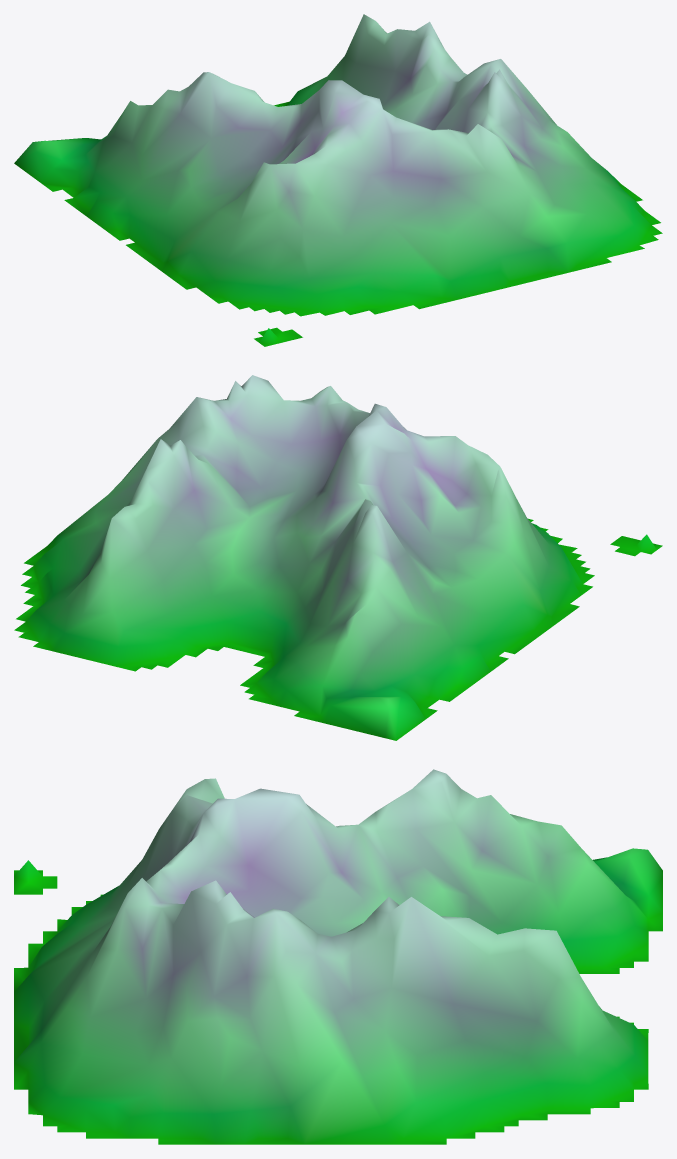
File: mountain_d.glb
3 views of the same model, one above another, from view 1: azimuth 30°, elevation 25°; view 2: azimuth 150°, elevation 25°; view 3: azimuth 270°, elevation 25° (orthographic). The views are drawn at different scales.
Visible parts, largest first — view 1: mountain_d; view 2: mountain_d; view 3: mountain_d.
Part boxes in pixels (box(x1,y1,x2,y2)): mountain_d: box(14, 14, 662, 346); mountain_d: box(14, 375, 662, 740); mountain_d: box(14, 769, 662, 1144).
Bounding box in the file's own units: 1 × 0.321 × 1.
